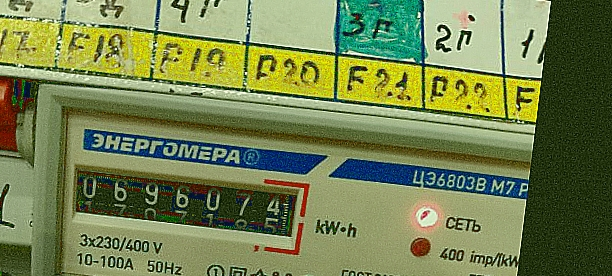0: (76, 171, 98, 198), (202, 184, 221, 212)
4: (263, 190, 282, 216)
5: (261, 214, 278, 234)
6: (109, 173, 131, 202), (171, 182, 190, 208)
7: (231, 188, 252, 216)
9: (139, 178, 161, 205)
screen: (54, 147, 314, 259)
